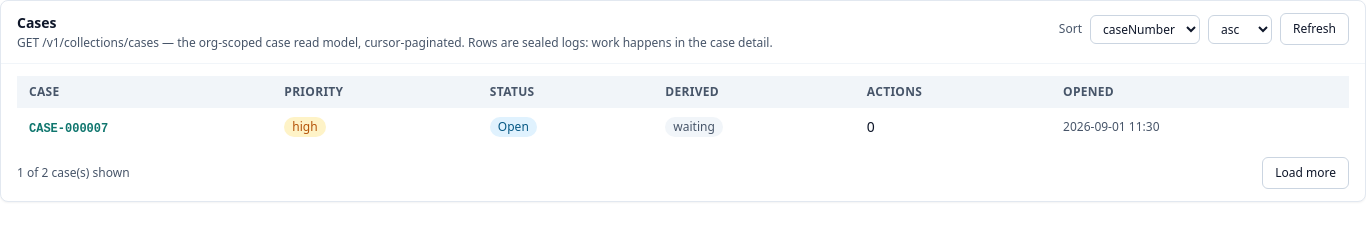
Test: CaseList load-more state › appends the second page from meta.pagination.nextCursor — honestly, per page
Expected: the link "CASE-000007" is shown, [29,122,108,136]
Expected: the text with test id "case-list-total" reads "1 of 2 case(s) shown", [17,164,130,181]
Click the button "Load more" at (1306, 173), box [1262,157,1349,189]
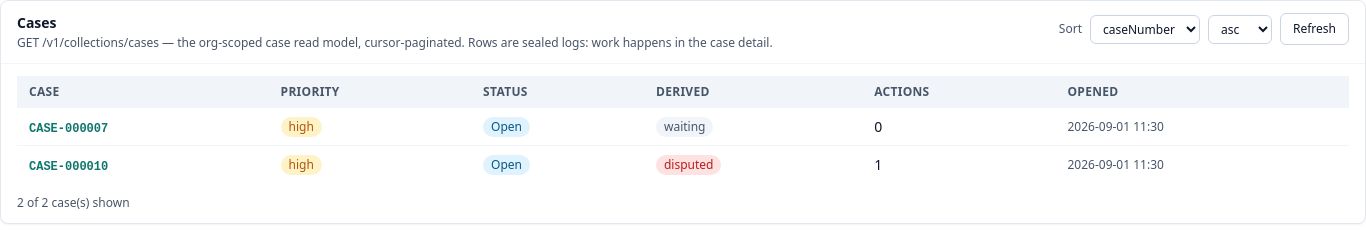
Now the link "CASE-000010" is shown, box [29,160,108,174]
Now the text with test id "case-list-total" reads "2 of 2 case(s) shown", box [17,194,130,211]
Now the button "Load more" is gone
